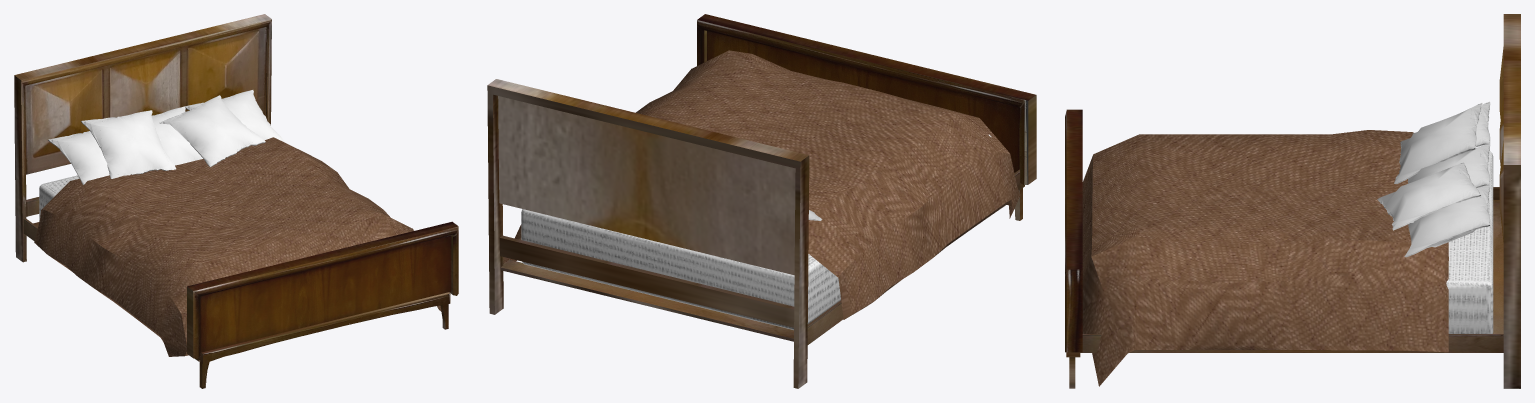
3 renders of one model, left to right at view 1: azimuth 30°, elevation 25°; view 2: azimuth 150°, elevation 25°; view 3: azimuth 270°, elevation 25°, orthographic. The views are drawn at different scales.
Parts seen in each view (by area): view 1: Blanket, Frame11, Frame9, Frame12, Frame10, Pillows1_2, Pillows1_3, Frame8, Pillows1_2_2, Pillows1_1, Pillows1, Mattress; view 2: Blanket, Frame11, Frame12, Mattress, Frame10, Frame9, Frame3, Frame5; view 3: Blanket, Frame12, Mattress, Frame10, Pillows1_3, Pillows1_2, Pillows1_1, Frame4, Pillows1, Frame3, Frame11, Pillows1_2_2.
Boxes of the visible parts, x1,y1,x2,y2 form: Blanket: [34, 137, 441, 356]; Frame11: [25, 27, 266, 216]; Frame9: [200, 235, 451, 352]; Frame12: [14, 14, 271, 262]; Frame10: [187, 221, 458, 358]; Pillows1_2: [81, 110, 176, 178]; Pillows1_3: [160, 95, 265, 167]; Frame8: [198, 292, 450, 363]; Pillows1_2_2: [48, 131, 109, 184]; Pillows1_1: [185, 90, 284, 142]; Pillows1: [152, 106, 202, 165]; Mattress: [39, 175, 79, 220]; Blanket: [514, 50, 1020, 319]; Frame11: [498, 96, 795, 327]; Frame12: [487, 79, 809, 388]; Mattress: [521, 134, 991, 329]; Frame10: [697, 14, 1036, 184]; Frame9: [707, 31, 1019, 172]; Frame3: [500, 259, 793, 341]; Frame5: [807, 169, 1024, 344]; Blanket: [1082, 130, 1448, 386]; Frame12: [1503, 14, 1520, 388]; Mattress: [1446, 151, 1493, 333]; Frame10: [1065, 109, 1082, 352]; Pillows1_3: [1377, 162, 1480, 230]; Pillows1_2: [1394, 103, 1482, 183]; Pillows1_1: [1404, 184, 1490, 257]; Frame4: [1080, 334, 1503, 352]; Pillows1: [1408, 142, 1490, 187]; Frame3: [1493, 200, 1503, 333]; Frame11: [1499, 47, 1503, 241]; Pillows1_2_2: [1412, 101, 1490, 152].
Size of the model in its own units: 8.96 by 5.7 by 10.46.
15 materials, 15 textured.
